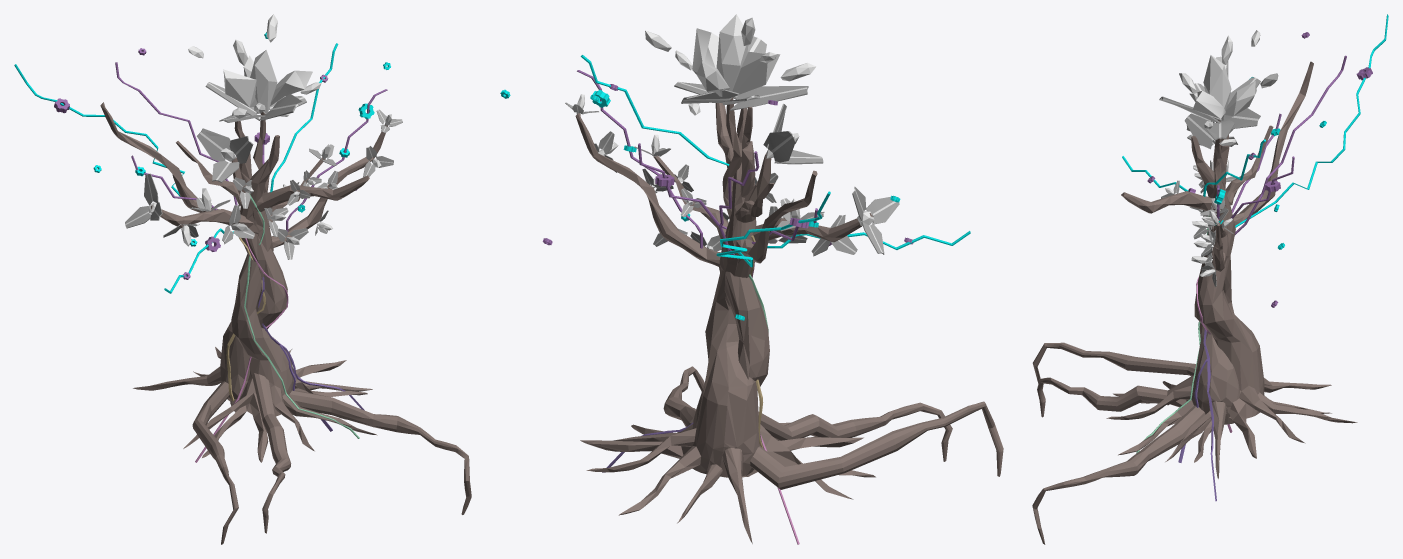
File: Tree.fbx
The picture shows the model from 3 angles, left to right: view 1: azimuth 30°, elevation 25°; view 2: azimuth 150°, elevation 25°; view 3: azimuth 270°, elevation 25°; orthographic projection. The views are drawn at different scales.
Parts seen in each view (by area): view 1: pCylinder1; view 2: pCylinder1; view 3: pCylinder1.
Part boxes in pixels (x1,y1,x2,y2): pCylinder1: [14, 14, 471, 544]; pCylinder1: [500, 14, 1003, 544]; pCylinder1: [1032, 14, 1388, 544].
Size of the model in its own units: 52.03 by 68.5 by 49.88.
